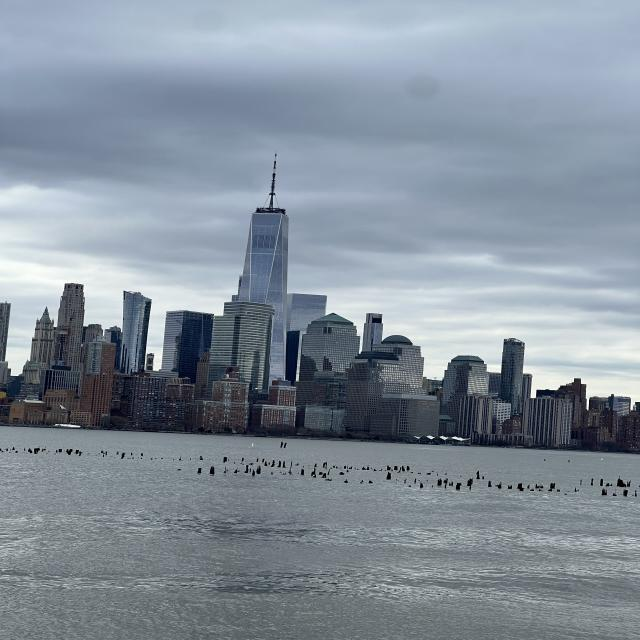WTC: (239, 150, 290, 304)
